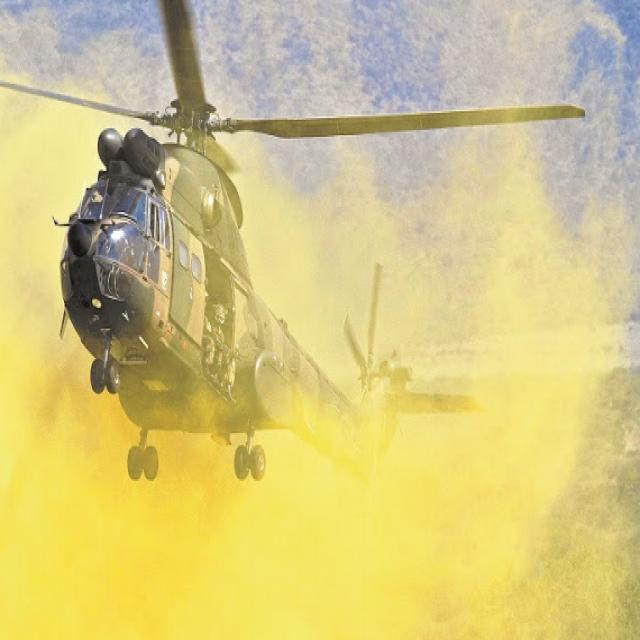helicopter: (1, 1, 602, 501)
